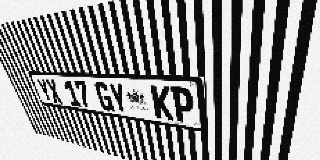1: (62, 80, 82, 107)
7: (73, 81, 93, 109)
G: (94, 82, 115, 112)
K: (150, 85, 174, 121)
P: (170, 86, 195, 124)
X: (45, 79, 63, 104)
Y: (108, 83, 129, 114), (36, 78, 54, 103)
